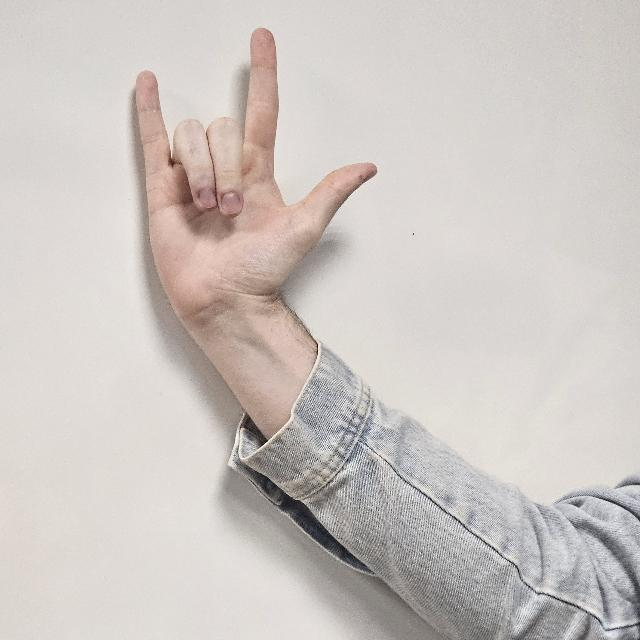Cima: (126, 26, 376, 340)
